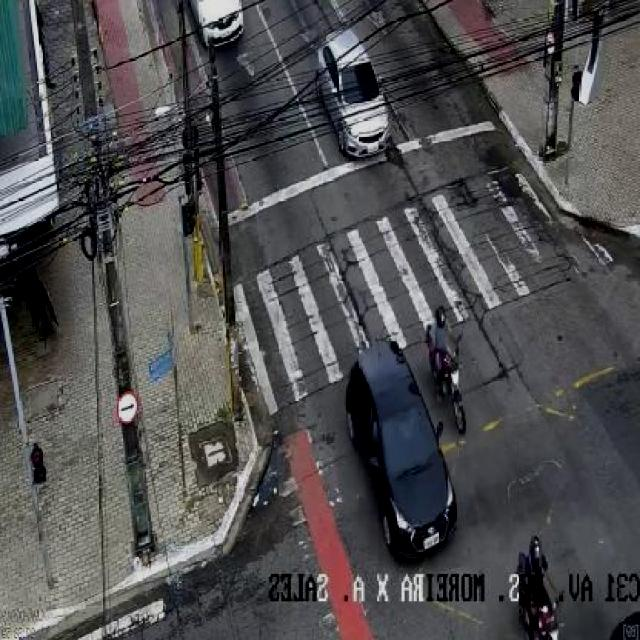Car: (322, 343, 458, 559), (302, 24, 398, 195), (144, 0, 256, 88)
Cycle: (399, 289, 488, 428), (508, 527, 582, 635)
